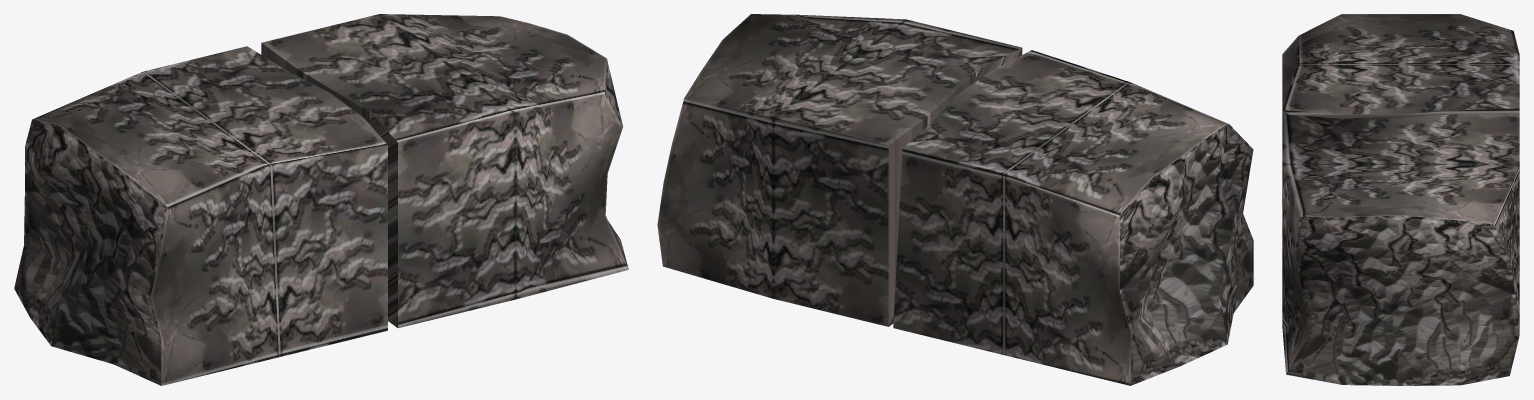
The model's file is INST_SM_DEBRIS_BLOCK_MEDIUMA.obj.
3 views of the same model, side by side, from view 1: azimuth 30°, elevation 25°; view 2: azimuth 150°, elevation 25°; view 3: azimuth 270°, elevation 25° (orthographic). The views are drawn at different scales.
Visible parts, largest first — view 1: Object233; view 2: Object233; view 3: Object233.
Boxes of the visible parts, x1,y1,x2,y2 form: Object233: (14,14,628,385); Object233: (657,14,1253,385); Object233: (1282,14,1519,385).
Size of the model in its own units: 455 by 150 by 200.
